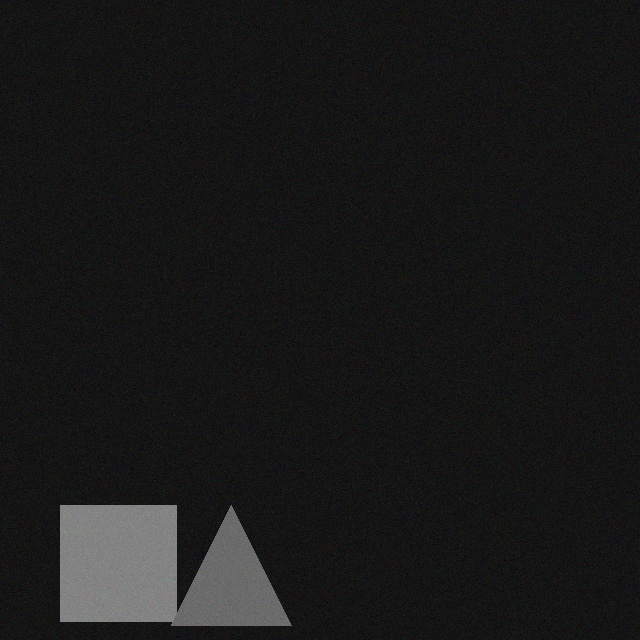square: (71, 503, 187, 619)
triangle: (182, 503, 302, 623)
